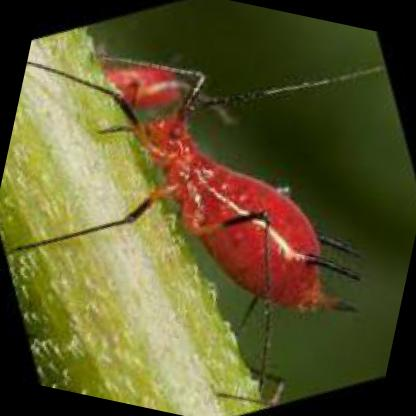uroleucon compositae: (134, 71, 359, 313)
